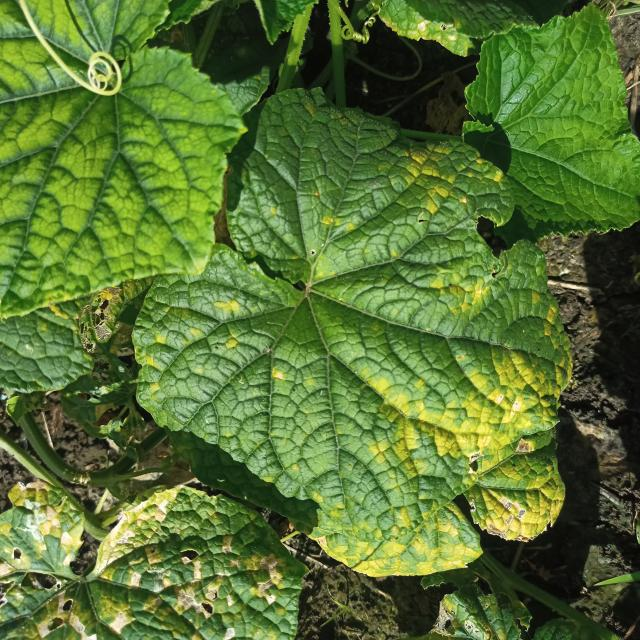disease_cucumber: (317, 348, 568, 578), (385, 137, 509, 317)
